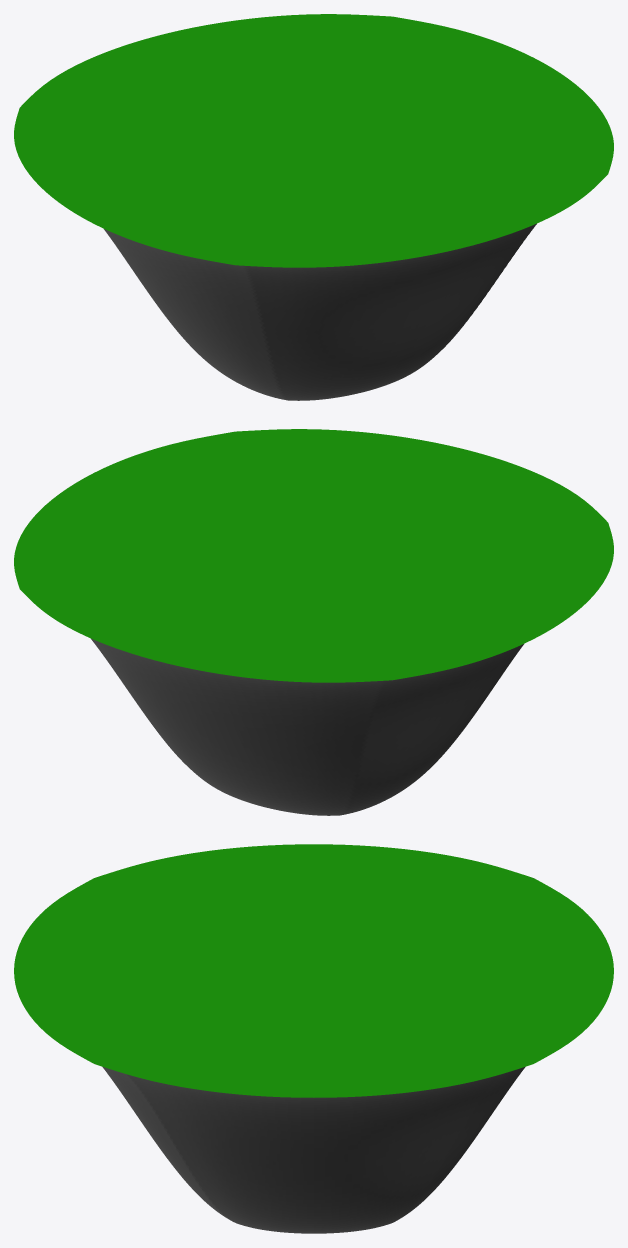
File: top island.fbx
The picture shows the model from 3 angles, top to bottom: view 1: azimuth 30°, elevation 25°; view 2: azimuth 150°, elevation 25°; view 3: azimuth 270°, elevation 25°; orthographic projection. The views are drawn at different scales.
Visible parts, largest first — view 1: Cube, Cube.001; view 2: Cube, Cube.001; view 3: Cube, Cube.001.
Part boxes in pixels (x1=…): Cube: x1=14, y1=14, x2=613, y2=267; Cube.001: x1=104, y1=174, x2=607, y2=400; Cube: x1=14, y1=429, x2=613, y2=682; Cube.001: x1=90, y1=638, x2=523, y2=815; Cube: x1=14, y1=844, x2=613, y2=1097; Cube.001: x1=102, y1=878, x2=533, y2=1233.
Bounding box in the file's own units: 183 × 76.51 × 183.
